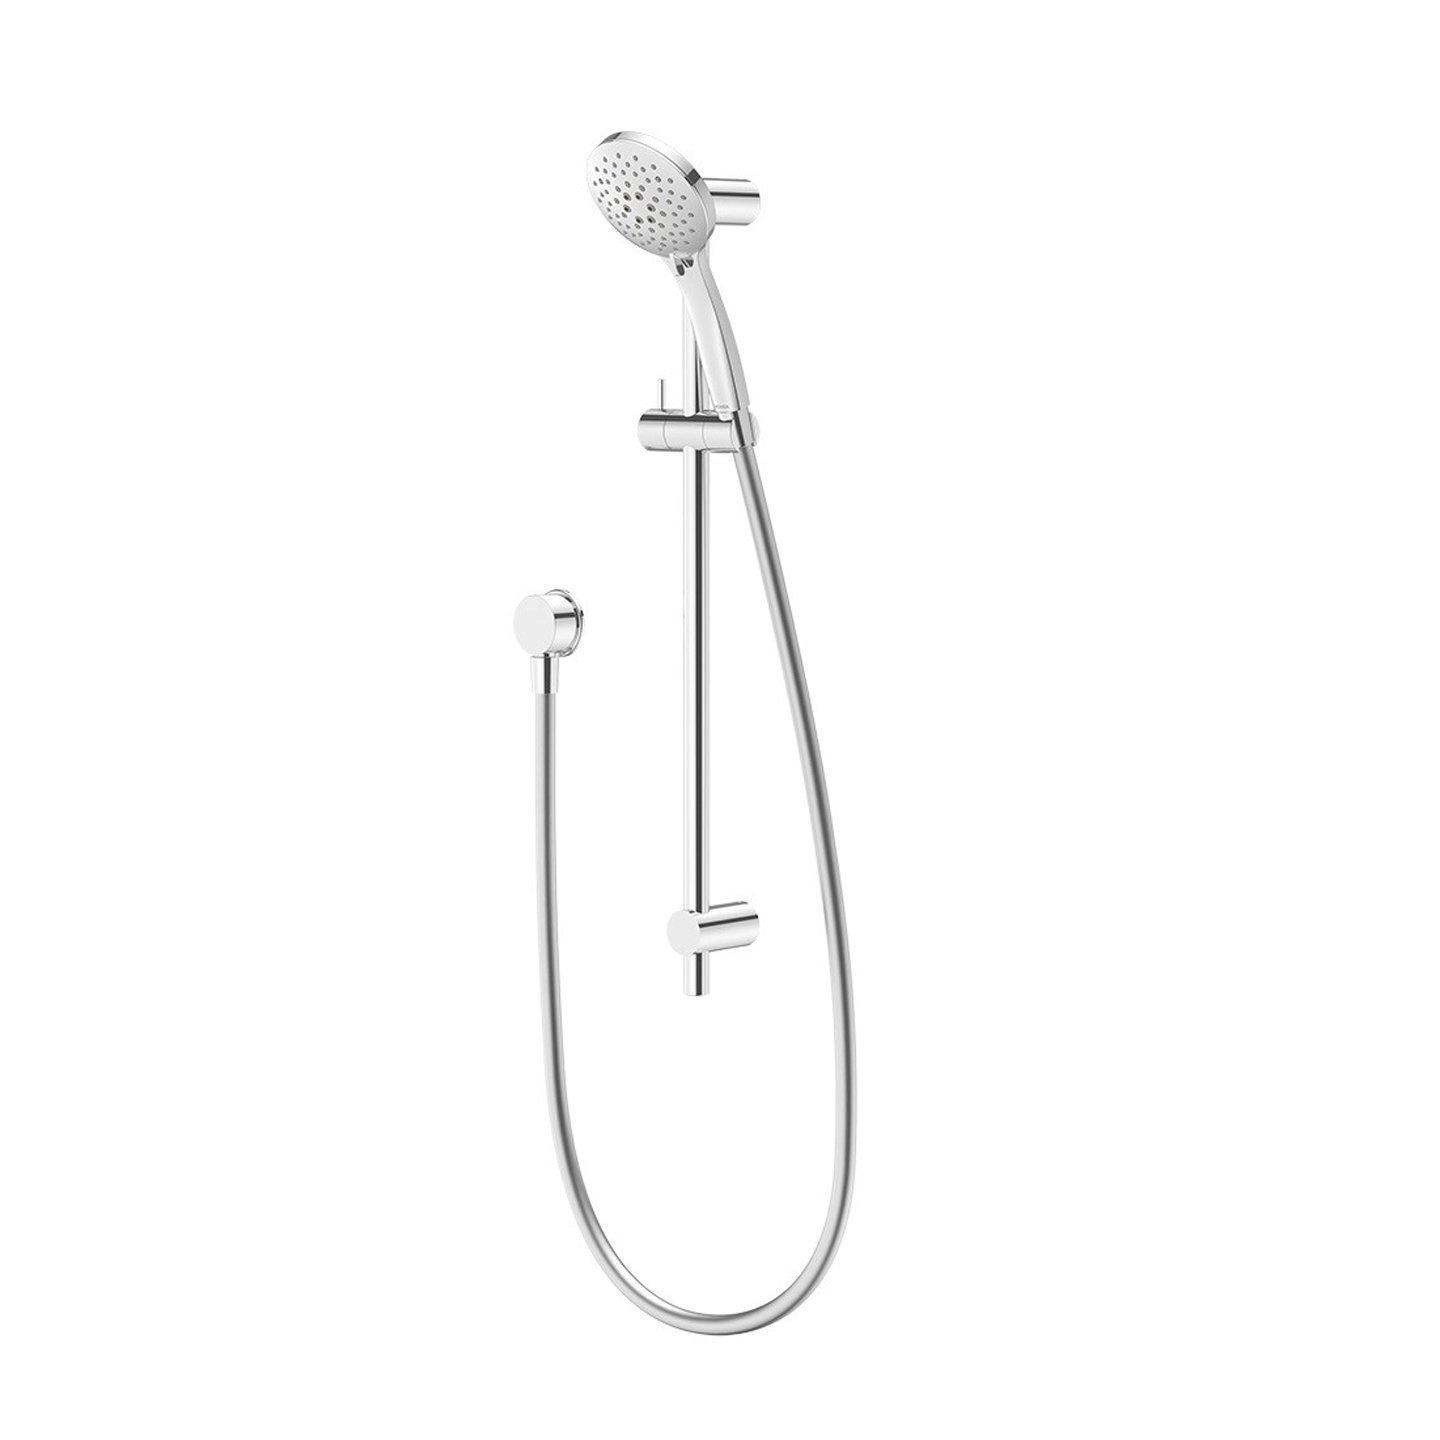Ducha: (481, 105, 905, 1352)
